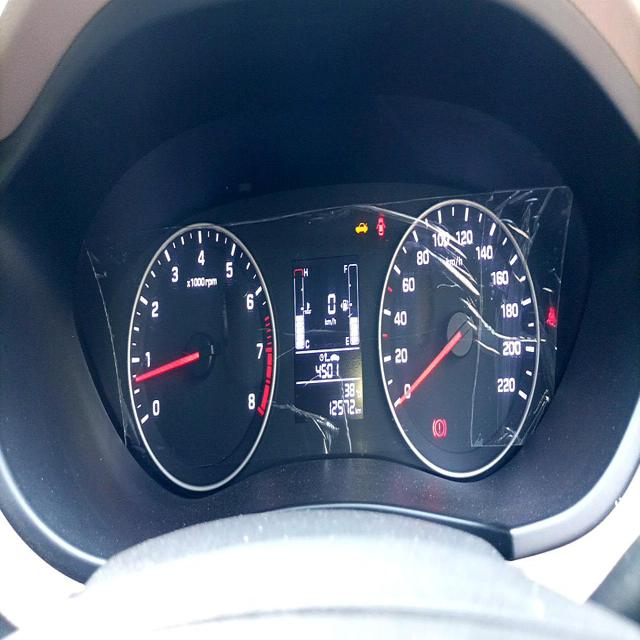odometer: (327, 395, 357, 418)
